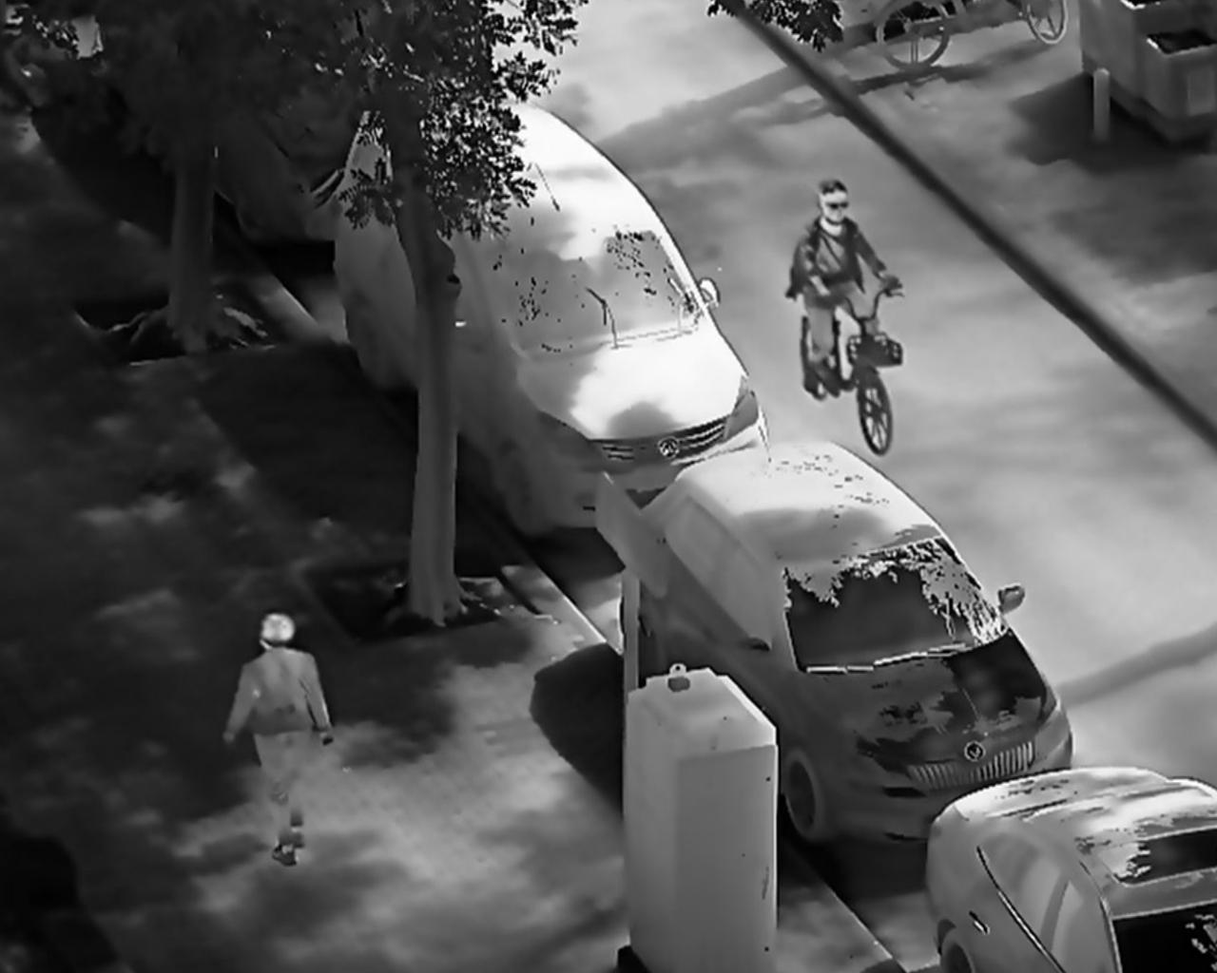person: (219, 610, 340, 873), (783, 178, 911, 400)
